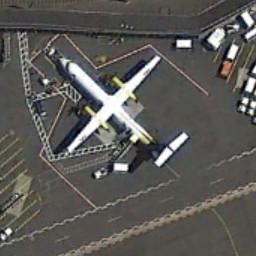Airplane: (32, 40, 201, 176)
